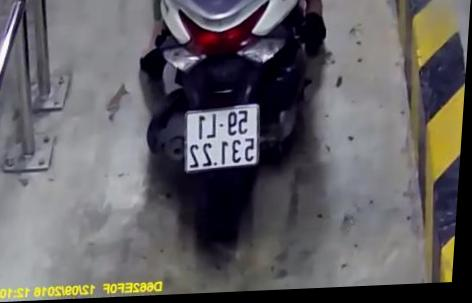License_Plate: (178, 101, 267, 181)
